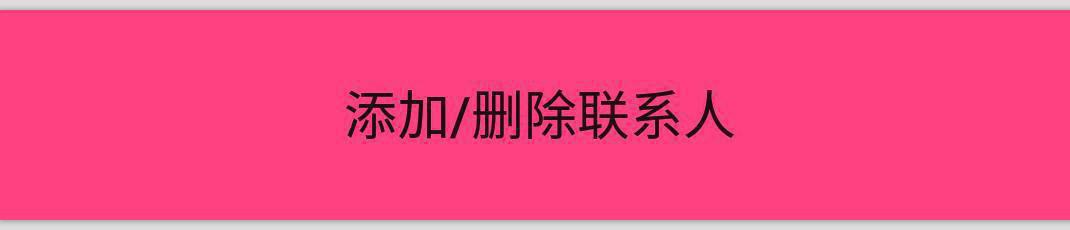Button: (1, 1, 1069, 229)
